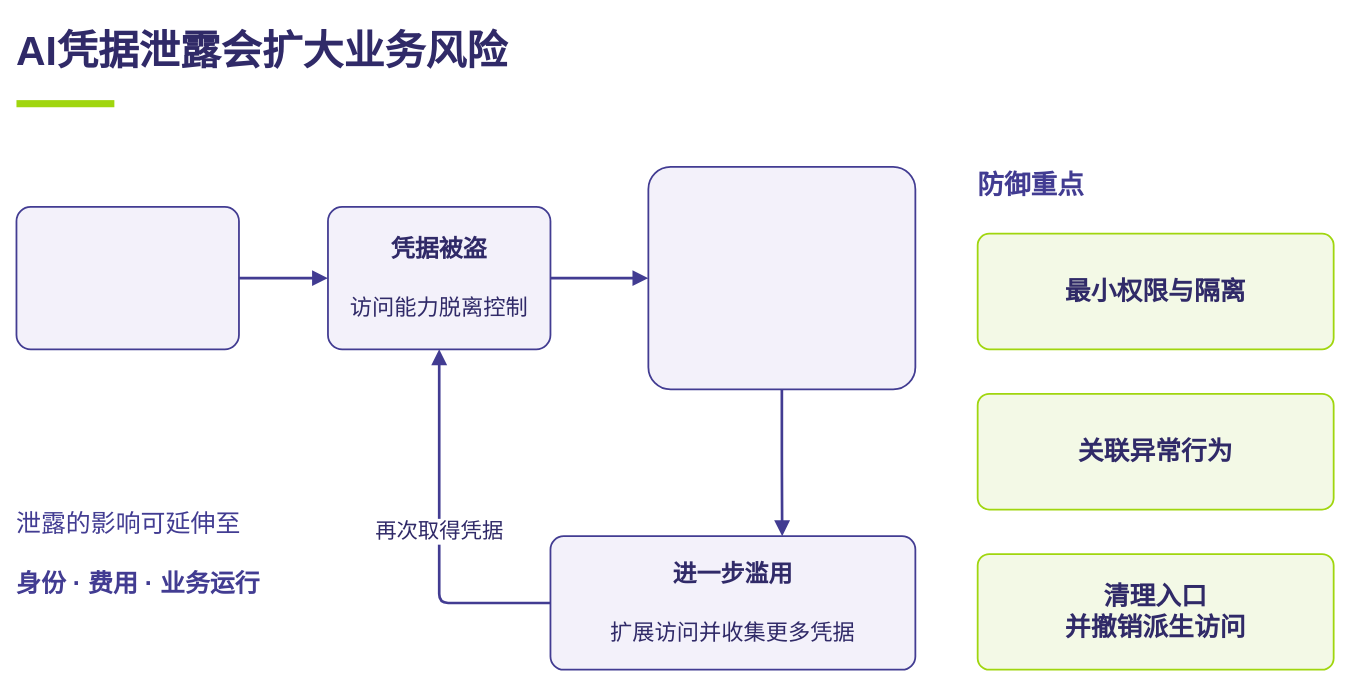
Some shapes in this 1349 by 685 pixel diagram are drawn without their labels. The shapes that lost their labels are listed below. From the top down, each one's box as (x1, y1, x2, y2) in pixels, then its label:
(15, 206, 239, 350): 凭据暴露 代码、应用或集成
(647, 166, 916, 390): 形成可用资源 费用转嫁 身份混淆 运行资源被占用
